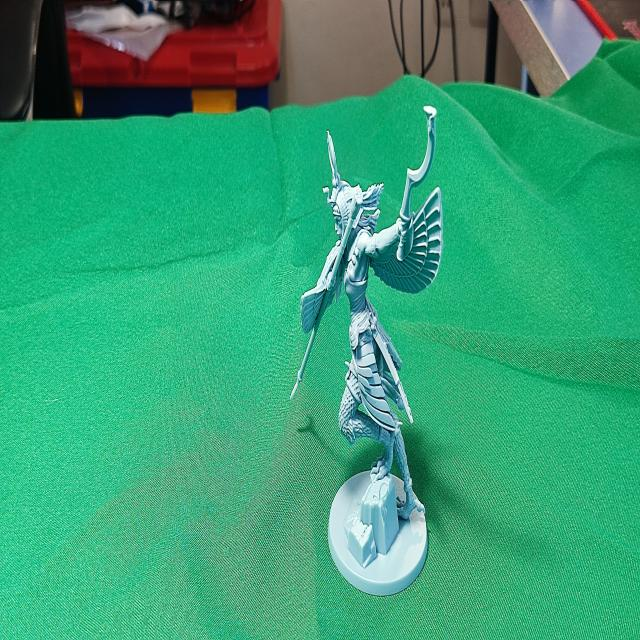isis: (281, 0, 453, 640)
